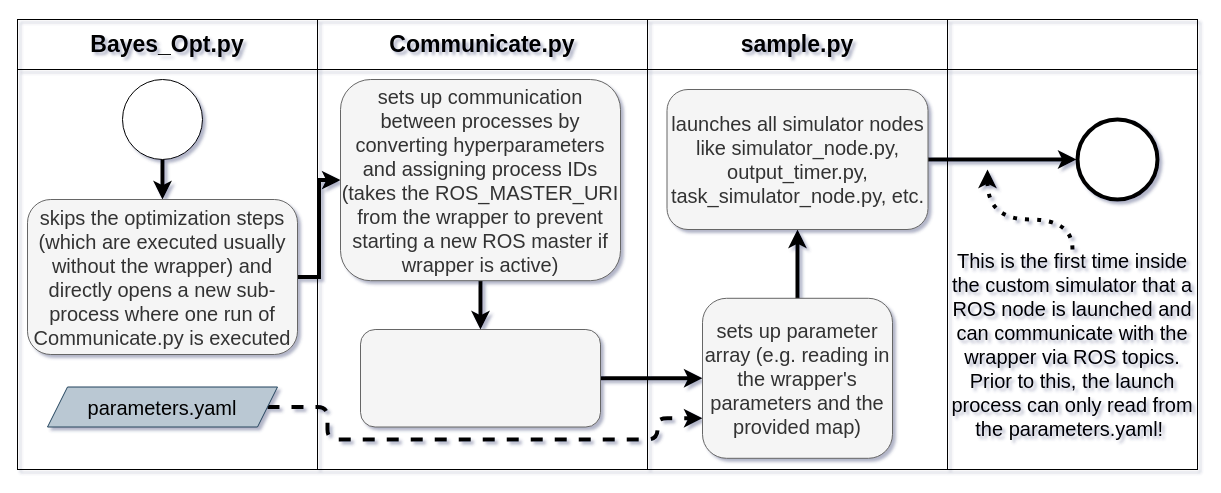
This 1221x493 diagram has some shape labels left out. Each missing label, with the centre of its shape:
"End" goes at pixel 1117 159.
"opens a new sub-process where one run of sample.py is executed" goes at pixel 480 377.
"ROS nodes of the custom simulator" goes at pixel 1072 44.
"Start" goes at pixel 162 119.
